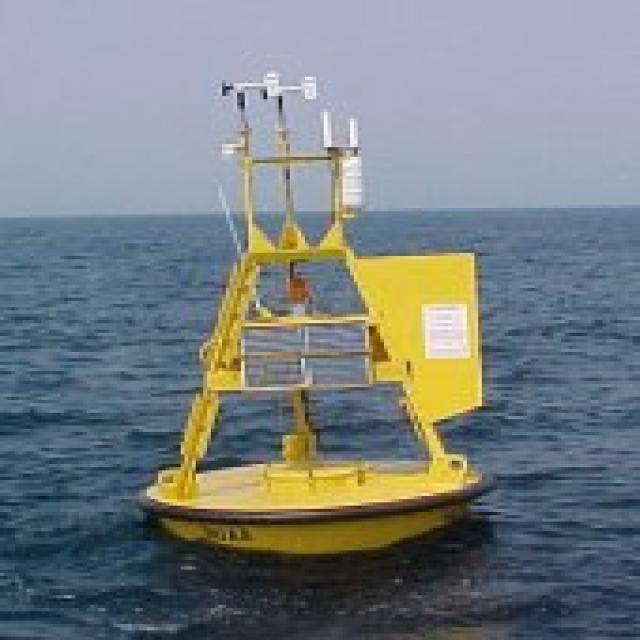marque: (120, 65, 512, 559)
